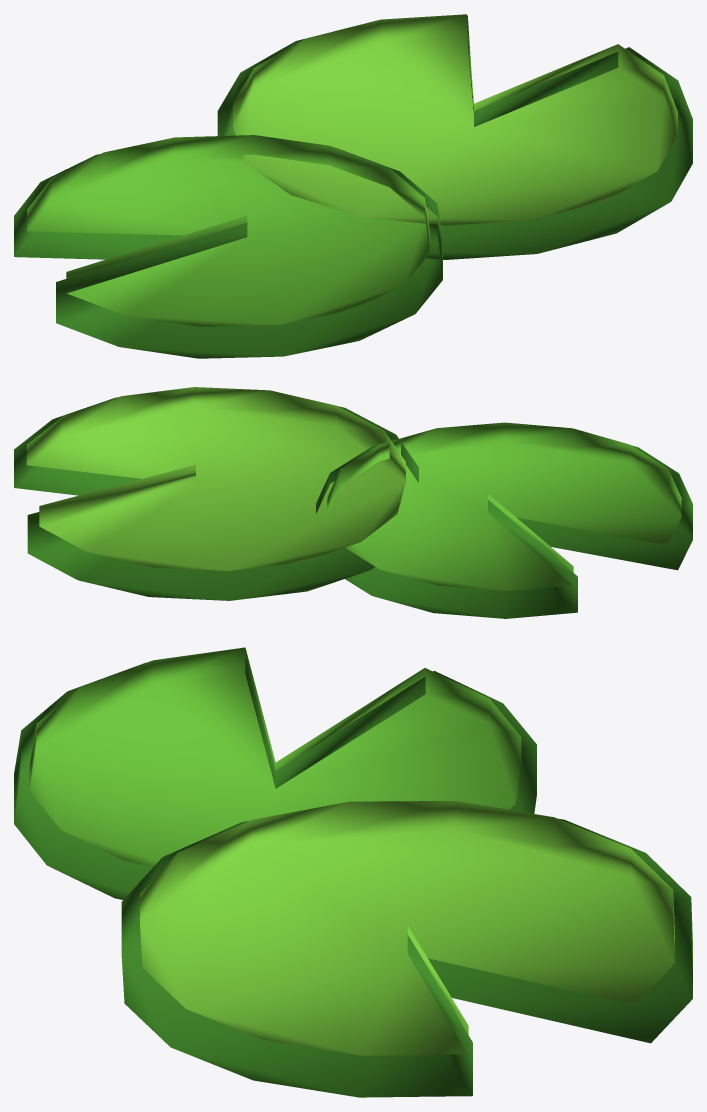
File: 19_lily_pad_pair.glb
3 views of the same model, one above another, from view 1: azimuth 30°, elevation 25°; view 2: azimuth 150°, elevation 25°; view 3: azimuth 270°, elevation 25° (orthographic). The views are drawn at different scales.
Visible parts, largest first — view 1: PadC_Top, PadB_Top, PadB_Rim, PadC_Rim; view 2: PadC_Top, PadB_Top, PadC_Rim, PadB_Rim; view 3: PadC_Top, PadB_Top, PadC_Rim, PadB_Rim.
Boxes of the visible parts, x1,y1,x2,y2 form: PadC_Top: [233, 14, 677, 225]; PadB_Top: [27, 135, 429, 326]; PadB_Rim: [14, 147, 442, 358]; PadC_Rim: [217, 15, 692, 259]; PadC_Top: [26, 387, 405, 570]; PadB_Top: [327, 422, 681, 590]; PadC_Rim: [14, 397, 418, 600]; PadB_Rim: [316, 445, 692, 618]; PadC_Top: [140, 801, 674, 1055]; PadB_Top: [29, 647, 521, 866]; PadC_Rim: [121, 818, 692, 1097]; PadB_Rim: [14, 657, 536, 899].
Size of the model in its own units: 0.7154 by 0.053 by 0.5148.
